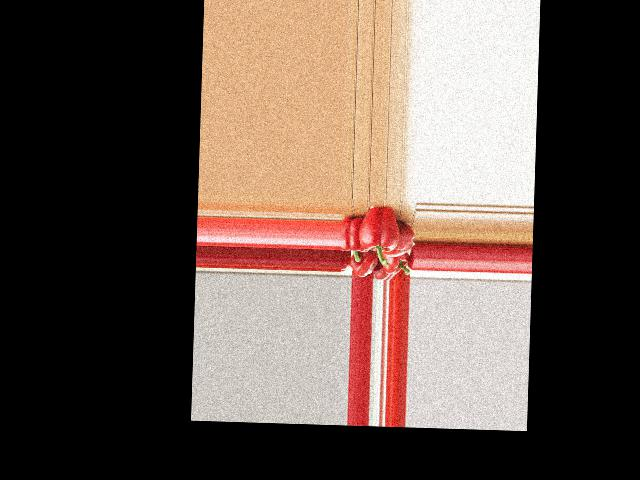bell_pepper: (382, 250, 412, 275)
